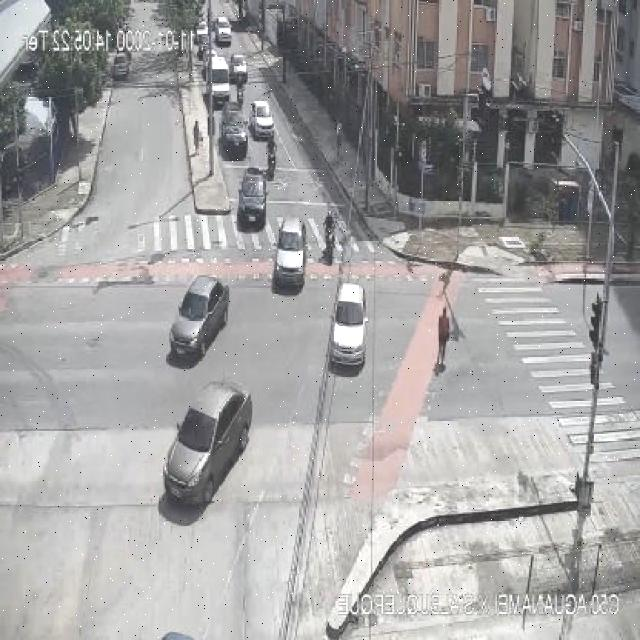Car: (163, 378, 251, 504), (170, 275, 230, 359), (328, 282, 367, 370), (272, 218, 307, 290), (238, 168, 270, 226), (220, 102, 249, 157), (250, 100, 274, 140), (227, 52, 252, 84), (213, 16, 232, 46), (112, 52, 131, 80), (195, 22, 210, 54)
Cycle: (314, 201, 346, 268)
Van: (206, 53, 230, 103)
